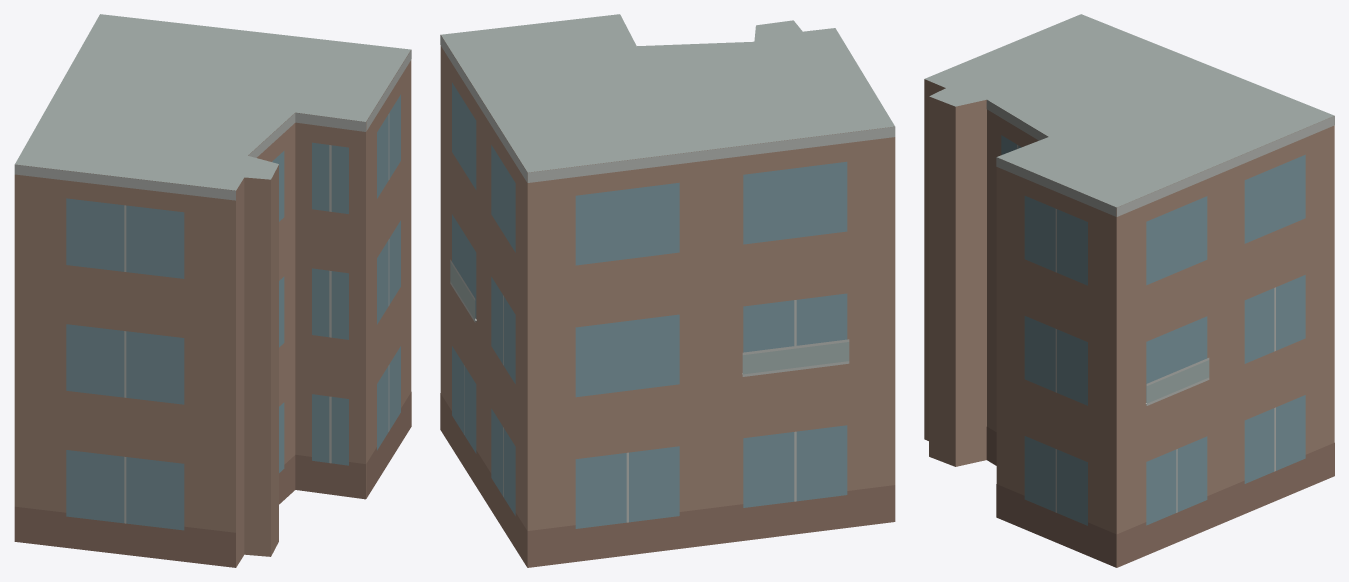
File: survey-upis-32509076.glb
3 views of the same model, side by side, from view 1: azimuth 30°, elevation 25°; view 2: azimuth 150°, elevation 25°; view 3: azimuth 270°, elevation 25° (orthographic). The views are drawn at different scales.
Parts seen in each view (by area): view 1: survey-upis-32509076.tmp; view 2: survey-upis-32509076.tmp; view 3: survey-upis-32509076.tmp.
Part boxes in pixels (x1,y1,x2,y2): survey-upis-32509076.tmp: (14, 14, 411, 567); survey-upis-32509076.tmp: (440, 14, 895, 567); survey-upis-32509076.tmp: (924, 14, 1334, 567).
Size of the model in its own units: 10.55 by 9.15 by 9.46.
